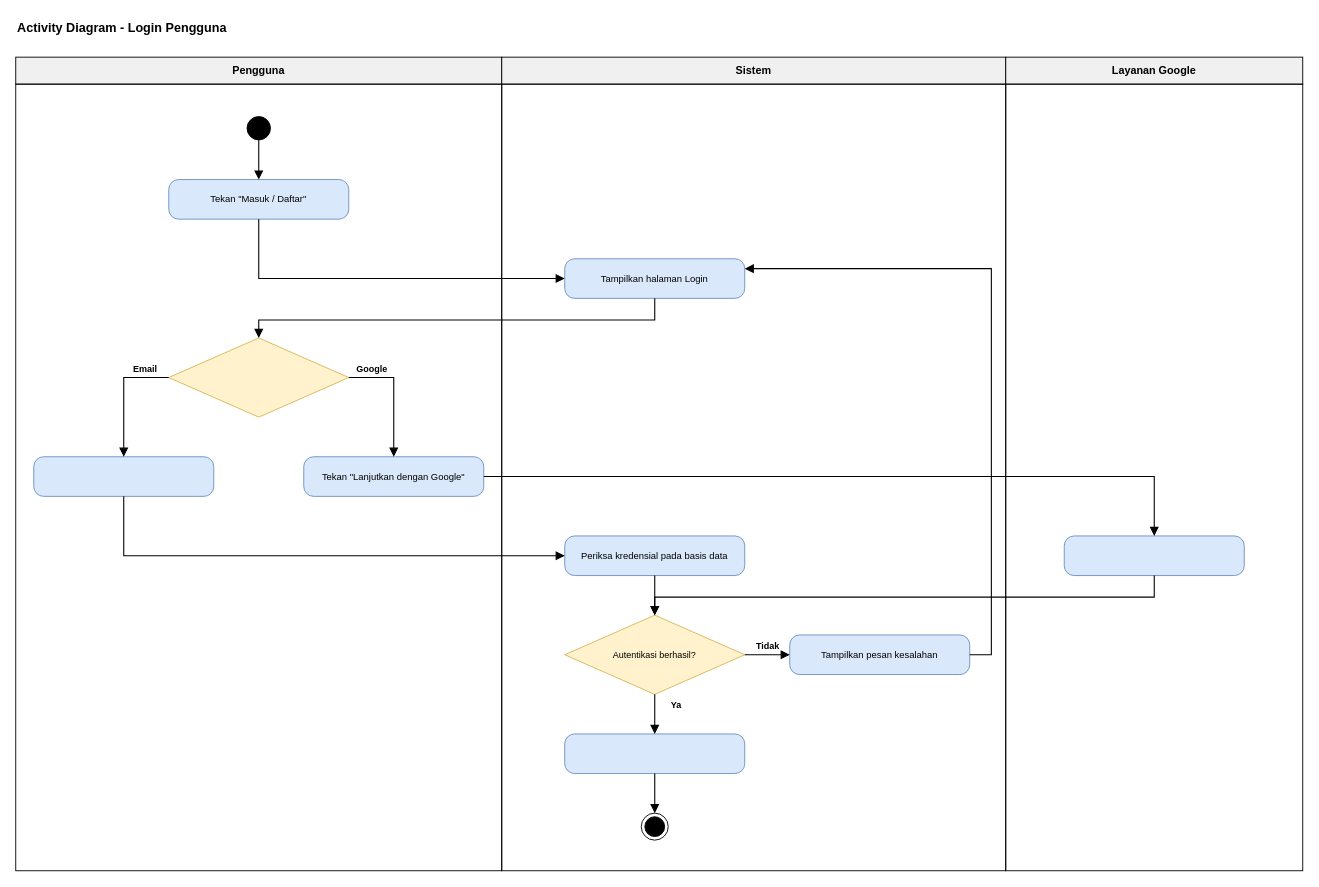
Some shapes in this 1319 by 887 pixel diagram are drawn without their labels. The centre of each missing label's shape, as x and y in pixels:
Autentikasi akun Google (OAuth): [1153,555]
Buka sesi dan tampilkan nama pada header: [654,753]
Isi email dan kata sandi, tekan "Masuk": [123,476]
Pilih metode login: [258,377]
